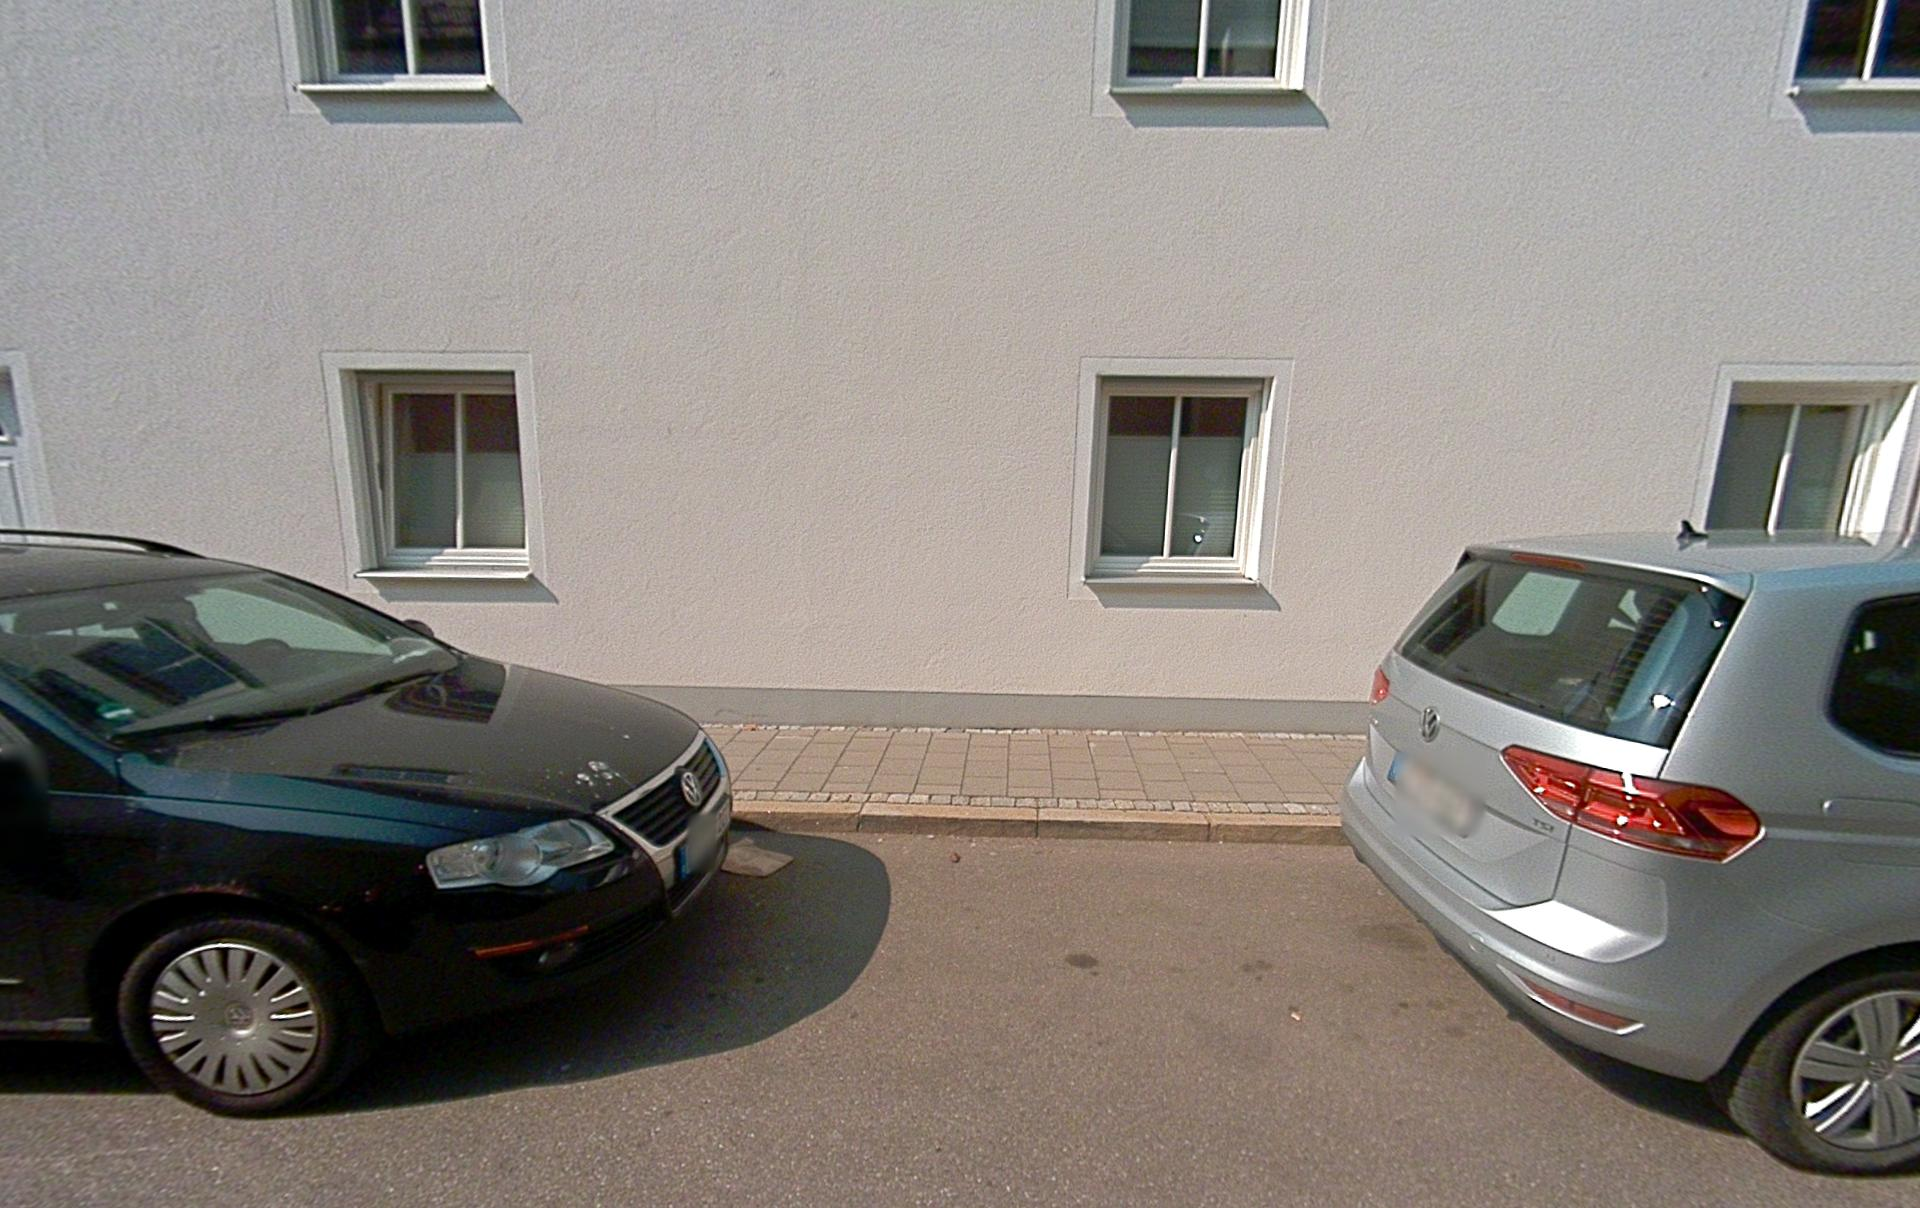car: (1, 525, 733, 1116), (1338, 520, 1919, 1176)
